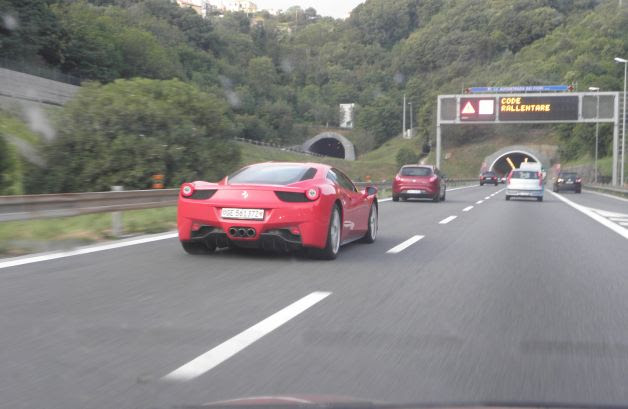car: (173, 151, 389, 267), (386, 157, 446, 209), (503, 163, 546, 205)
